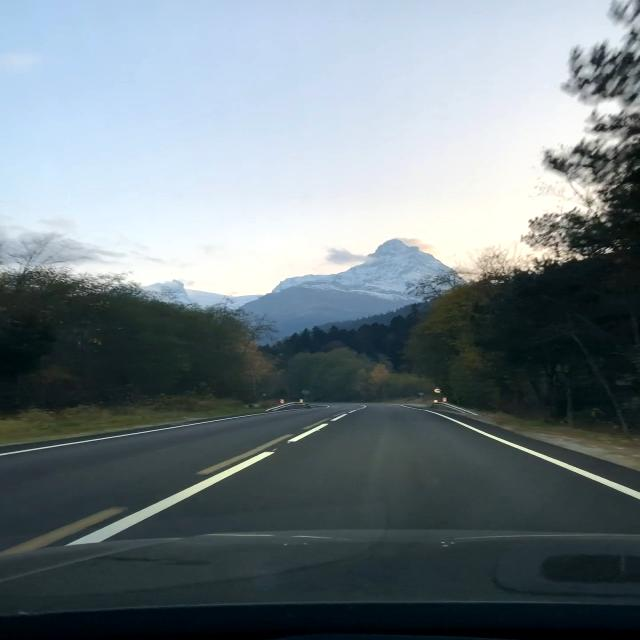lane: (418, 409, 640, 498), (69, 452, 273, 545), (289, 423, 329, 442)
road: (0, 404, 637, 548)
